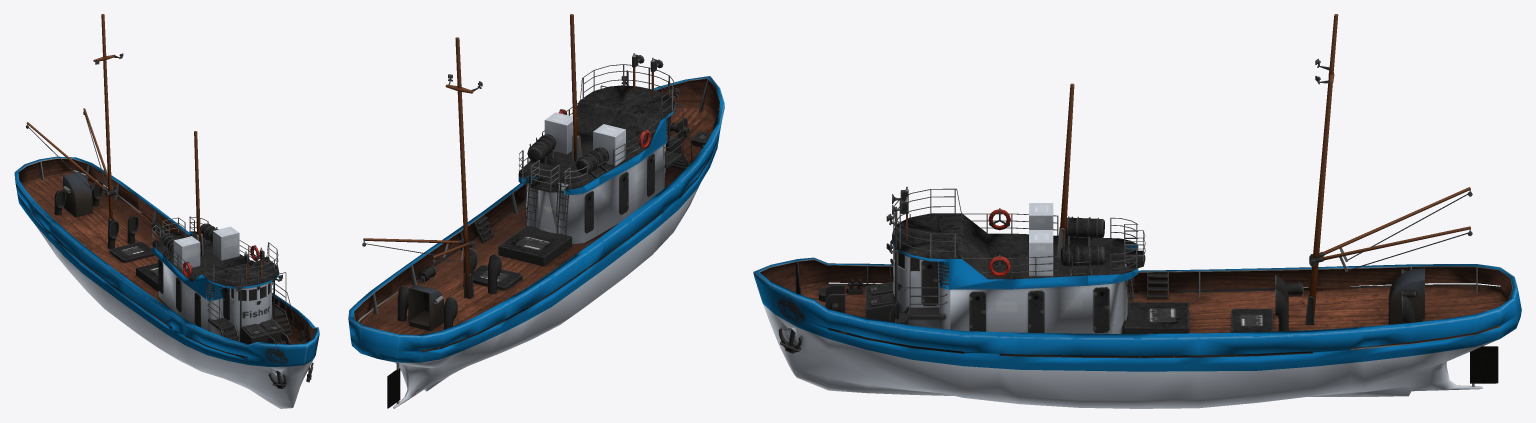
Rendered from SM_Boat.fbx.
3 renders of one model, left to right at view 1: azimuth 30°, elevation 25°; view 2: azimuth 150°, elevation 25°; view 3: azimuth 270°, elevation 25°, orthographic. The views are drawn at different scales.
Visible parts, largest first — view 1: Boat_Body; view 2: Boat_Body, Boat_Back; view 3: Boat_Body, Boat_Back.
Boxes of the visible parts, x1,y1,x2,y2 form: Boat_Body: (14,14,319,408); Boat_Body: (348,14,724,408); Boat_Back: (387,368,400,408); Boat_Body: (753,14,1521,408); Boat_Back: (1470,346,1498,383).
Size of the model in its own units: 612 by 1583 by 2889.
